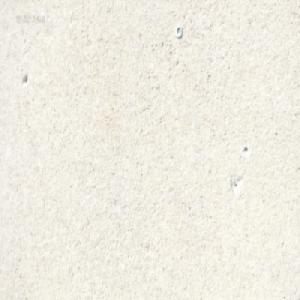Washer: (174, 24, 182, 38)
